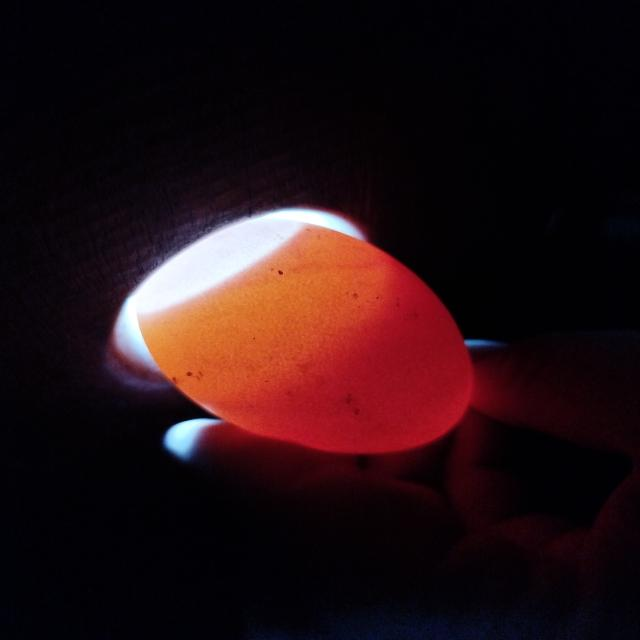Camara de Ar: (137, 219, 301, 312)
